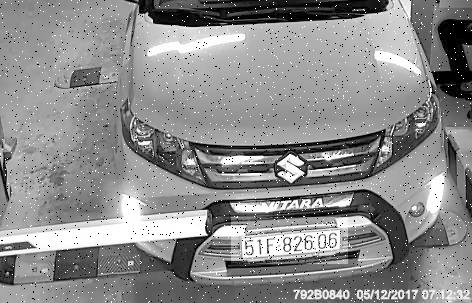License-plate: (233, 218, 351, 265)
